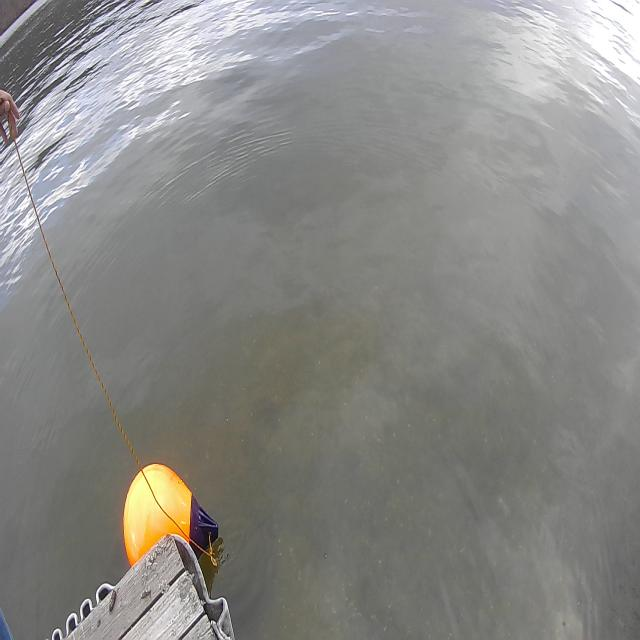Buoy: (124, 463, 193, 569)
